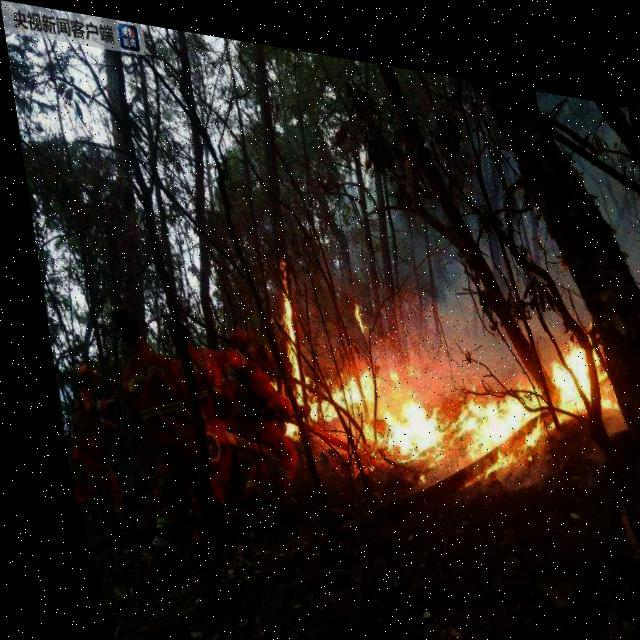Fire: (251, 244, 619, 492)
